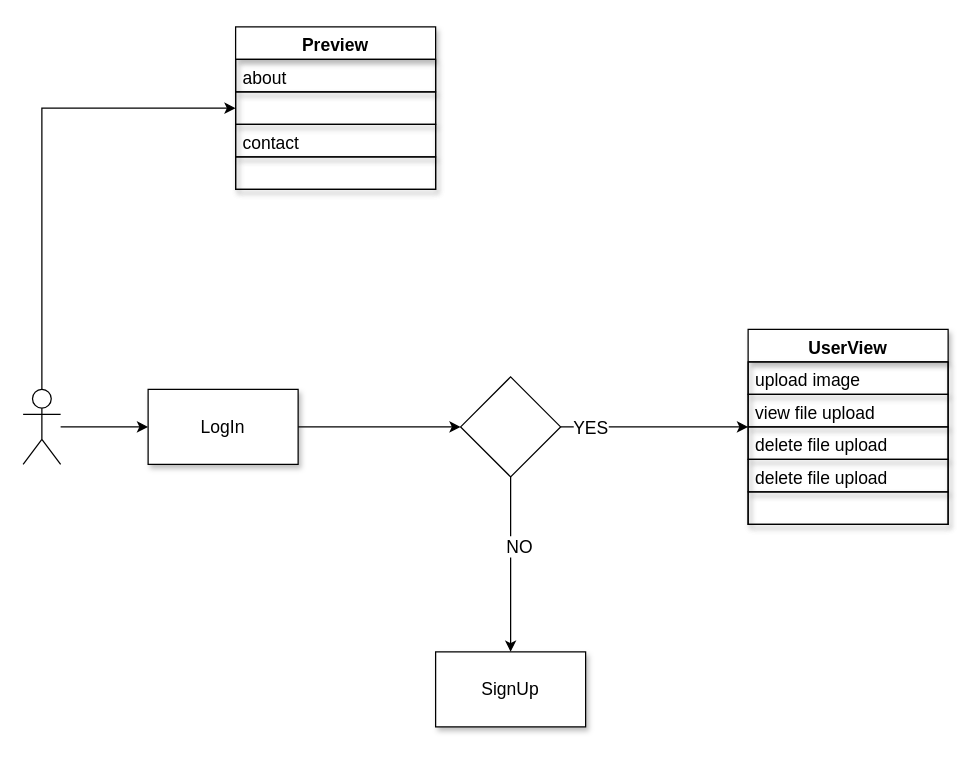
Some shapes in this 978 by 758 pixel diagram are drawn without their labels. The centre of each missing label's shape, as x and y in pixels:
"Account" belongs at point 510,426.
"client" belongs at point 41,426.
"home" belongs at point 336,109.
